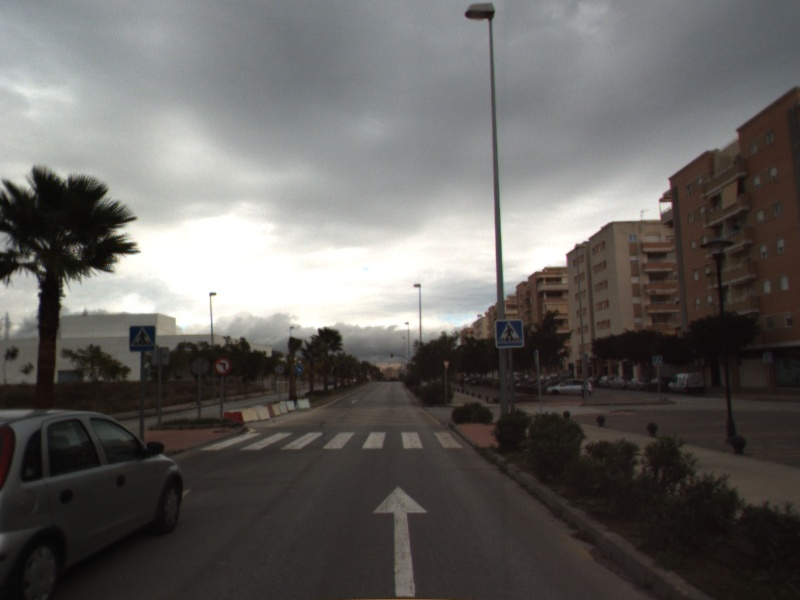STRAIGHT: (371, 484, 430, 598)
